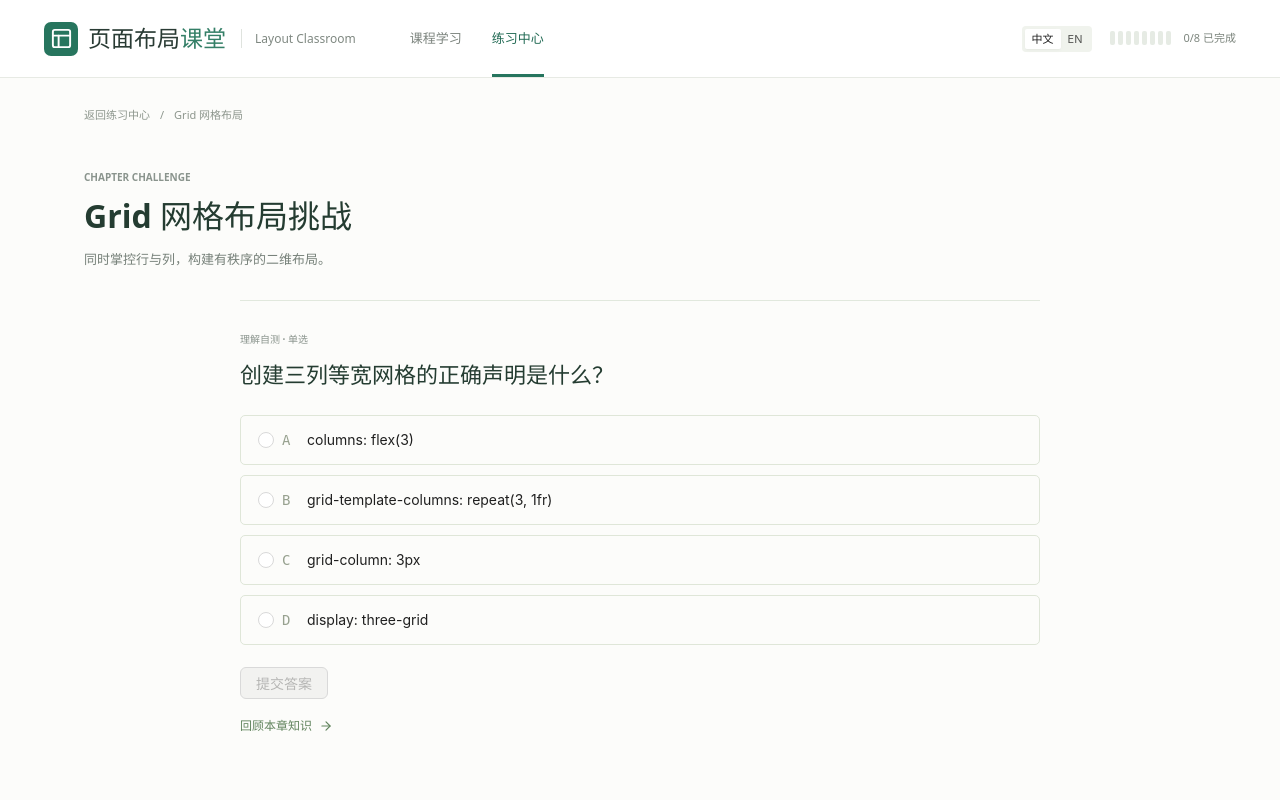
Test: saves progress after a correct challenge answer
Click the radio button labelled "B grid-template-columns: repeat(3, 1fr)" at {"x": 430, "y": 500}, box [240,475,1040,525]
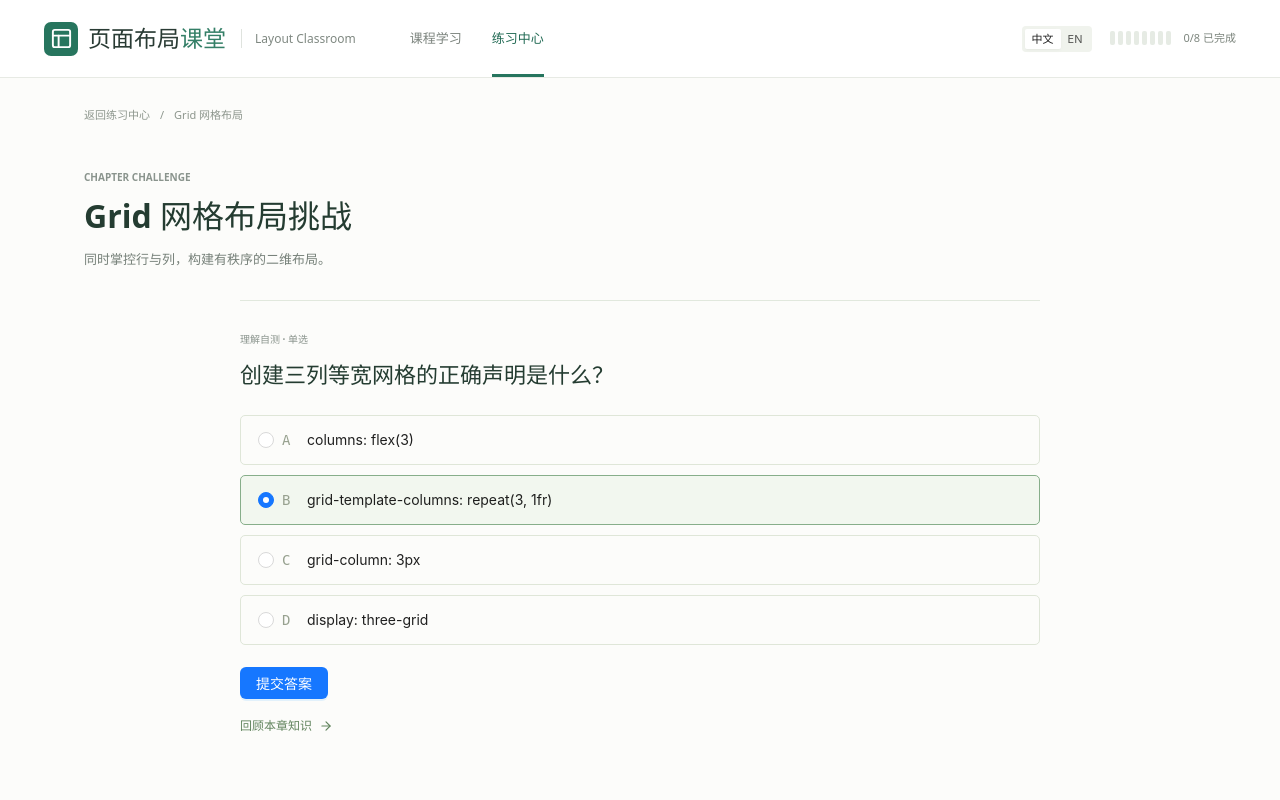
Click the button "提交答案" at {"x": 284, "y": 683}, box [240,667,328,699]
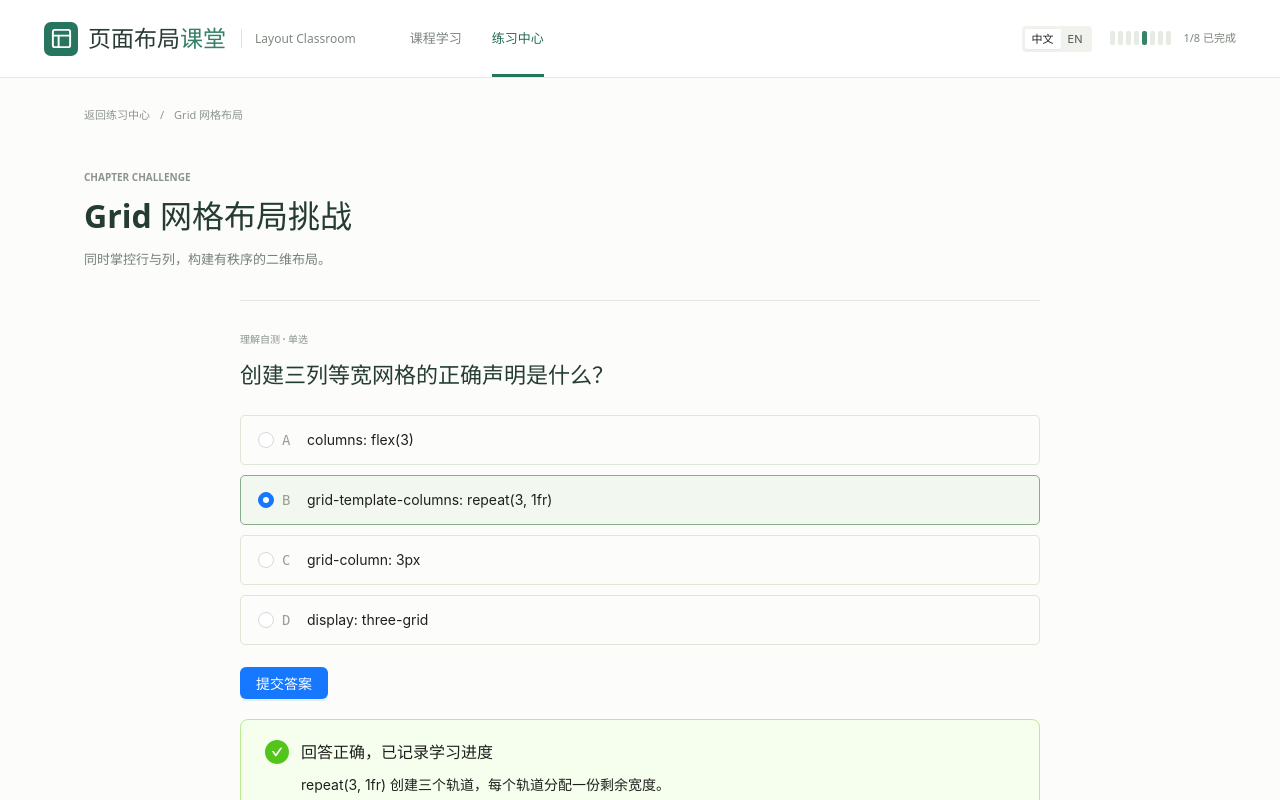
Check: the text "回答正确，已记录学习进度" is shown, box [301,742,493,762]
